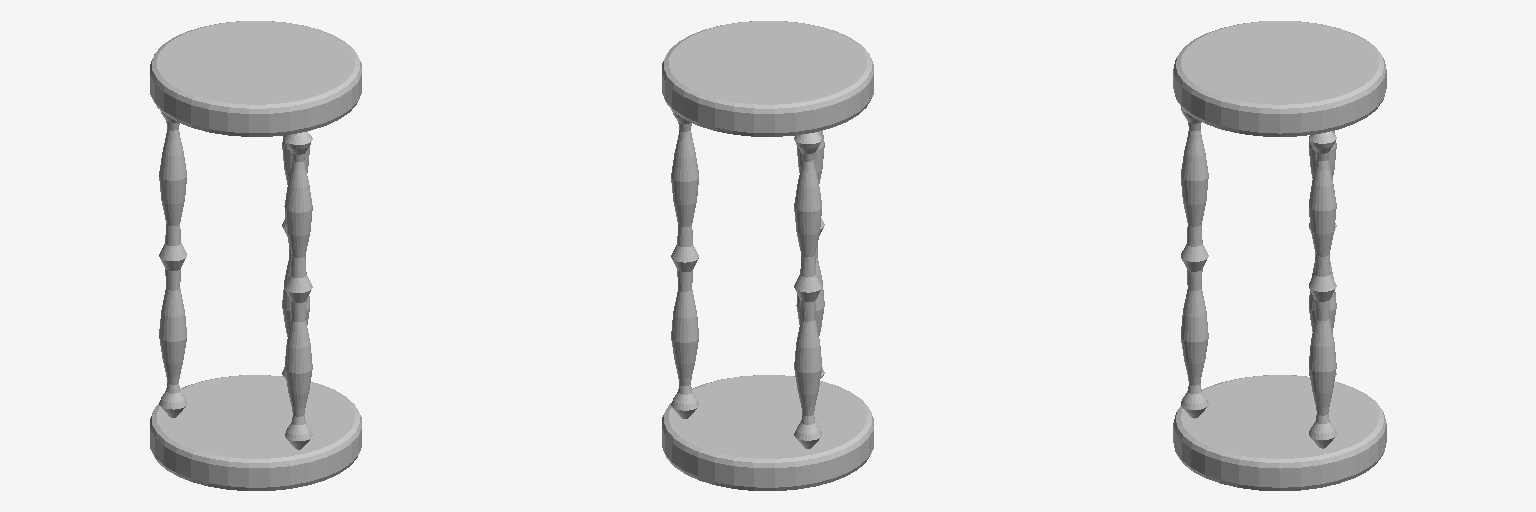
Rendered from HGlass.obj.
The picture shows the model from 3 angles: view 1: azimuth 30°, elevation 25°; view 2: azimuth 150°, elevation 25°; view 3: azimuth 270°, elevation 25°; orthographic projection.
Visible parts, largest first — view 1: default; view 2: default; view 3: default.
Part boxes in pixels (bbox=[...]): default: bbox=[150, 21, 361, 490]; default: bbox=[662, 21, 873, 490]; default: bbox=[1173, 21, 1386, 490].
Size of the model in its own units: 6 by 12 by 6.